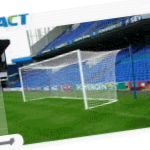goals: (18, 48, 121, 112)
